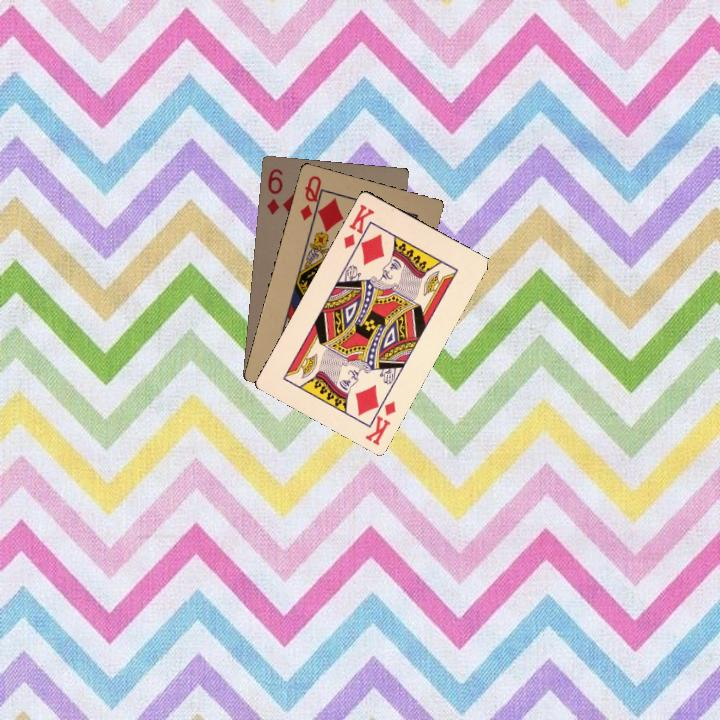6d: (262, 165, 285, 217)
Kd: (361, 389, 398, 448), (339, 200, 377, 254)
Qd: (296, 171, 325, 228)
